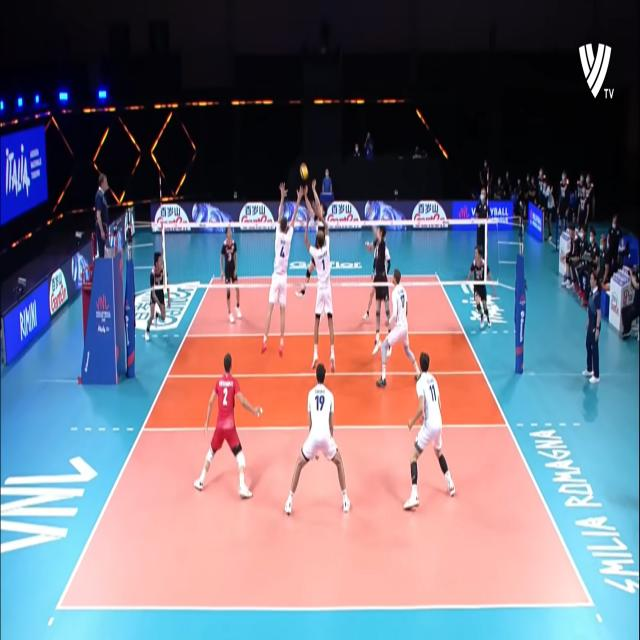player: (197, 350, 261, 504), (292, 360, 352, 515), (402, 352, 460, 512), (258, 183, 295, 356), (306, 228, 344, 372), (382, 267, 423, 388), (368, 218, 396, 328), (220, 223, 248, 322), (465, 242, 494, 337), (149, 252, 172, 344)
